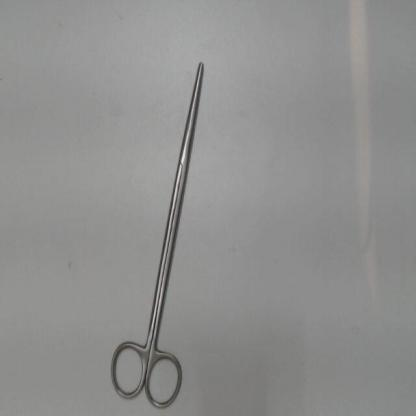9 Metzenbaum Scissors: (102, 55, 209, 412)
